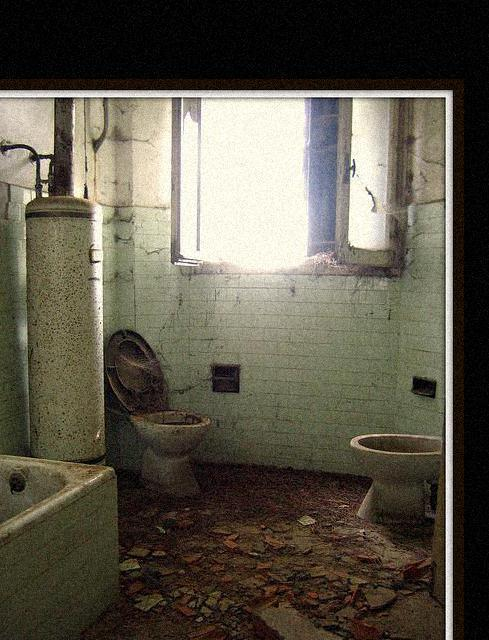Sanitario: (110, 334, 218, 498), (352, 395, 450, 528)
